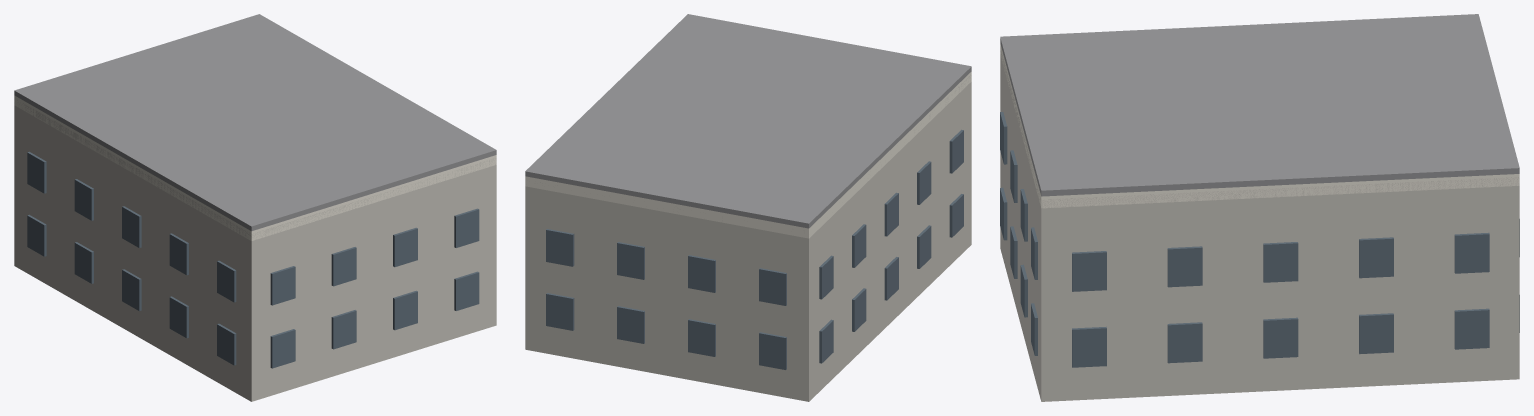
File: s43_gis_248127_820664.glb
The picture shows the model from 3 angles, left to right: view 1: azimuth 30°, elevation 25°; view 2: azimuth 150°, elevation 25°; view 3: azimuth 270°, elevation 25°; orthographic projection. The views are drawn at different scales.
Parts seen in each view (by area): view 1: mass, roofcap, cornice, win_2_1_1, win_2_1_3, win_2_0_0, win_2_1_0, win_2_0_1, win_2_0_3, win_2_0_2, win_2_1_2, win_1_0_2 (+9 smaller); view 2: mass, roofcap, cornice, win_0_0_0, win_0_1_0, win_0_0_1, win_0_1_2, win_0_0_2, win_0_0_3, win_0_1_1, win_0_1_3, win_1_1_2 (+9 smaller); view 3: mass, roofcap, cornice, win_3_0_1, win_3_1_1, win_3_0_2, win_3_0_4, win_3_1_4, win_3_1_2, win_3_0_0, win_3_0_3, win_3_1_0 (+1 smaller).
Boxes of the visible parts, box(x1,y1,x2,y2) form: mass: box(14, 99, 496, 401); roofcap: box(14, 14, 496, 231); cornice: box(14, 95, 496, 240); win_2_1_1: box(331, 247, 356, 286); win_2_1_3: box(454, 208, 479, 247); win_2_0_0: box(270, 329, 295, 368); win_2_1_0: box(270, 266, 295, 305); win_2_0_1: box(331, 310, 356, 349); win_2_0_3: box(454, 271, 479, 310); win_2_0_2: box(393, 290, 417, 330); win_2_1_2: box(393, 227, 417, 267); win_1_0_2: box(122, 269, 141, 311); mass: box(525, 75, 971, 401); roofcap: box(525, 14, 971, 228); cornice: box(525, 72, 971, 238); win_0_0_0: box(546, 293, 574, 330); win_0_1_0: box(546, 229, 574, 266); win_0_0_1: box(617, 306, 644, 343); win_0_1_2: box(688, 255, 715, 292); win_0_0_2: box(688, 319, 715, 356); win_0_0_3: box(759, 332, 786, 369); win_0_1_1: box(617, 242, 644, 279); win_0_1_3: box(759, 268, 786, 305); win_1_1_2: box(884, 192, 898, 236); mass: box(1000, 48, 1519, 401); roofcap: box(1000, 14, 1519, 196); cornice: box(1000, 44, 1519, 208); win_3_0_1: box(1167, 322, 1202, 363); win_3_1_1: box(1167, 246, 1202, 287); win_3_0_2: box(1263, 317, 1298, 358); win_3_0_4: box(1454, 308, 1489, 349); win_3_1_4: box(1454, 232, 1489, 273); win_3_1_2: box(1263, 242, 1298, 282); win_3_0_0: box(1072, 326, 1106, 367); win_3_0_3: box(1359, 313, 1393, 354); win_3_1_0: box(1072, 251, 1106, 291).
Size of the model in its own units: 14.98 by 8.35 by 18.62.
